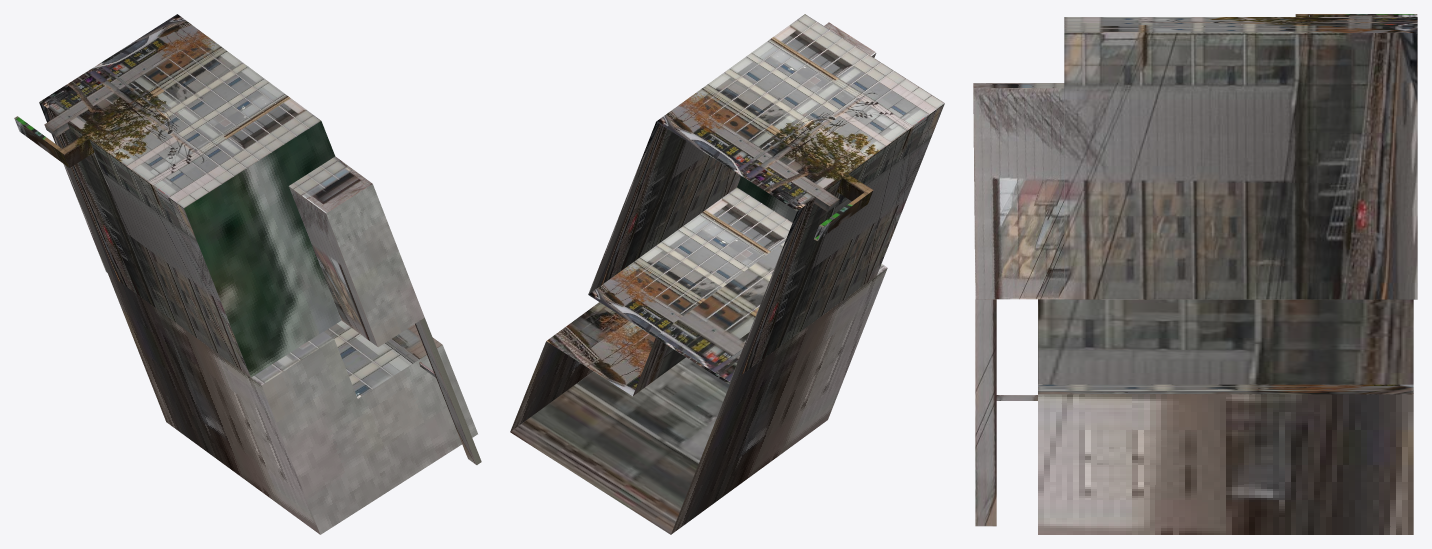
3 views of the same model, side by side, from view 1: azimuth 30°, elevation 25°; view 2: azimuth 150°, elevation 25°; view 3: azimuth 270°, elevation 25° (orthographic). The views are drawn at different scales.
Parts seen in each view (by area): view 1: IndexedFaceSet, IndexedFaceSet__12_0, IndexedFaceSet__4_0, IndexedFaceSet__3_0, IndexedFaceSet__15_0, IndexedFaceSet__9_0, IndexedFaceSet__18_0, IndexedFaceSet__8_0, IndexedFaceSet__6_0, IndexedFaceSet__16_0, IndexedFaceSet__22_0, IndexedFaceSet__21_0; view 2: IndexedFaceSet, IndexedFaceSet__14_0, IndexedFaceSet__15_0, IndexedFaceSet__3_0, IndexedFaceSet__1_0, IndexedFaceSet__5_0, IndexedFaceSet__16_0, IndexedFaceSet__18_0, IndexedFaceSet__19_0, IndexedFaceSet__17_0, IndexedFaceSet__4_0, IndexedFaceSet__26_0; view 3: IndexedFaceSet__5_0, IndexedFaceSet__19_0, IndexedFaceSet__17_0, IndexedFaceSet__10_0, IndexedFaceSet, IndexedFaceSet__20_0, IndexedFaceSet__18_0, IndexedFaceSet__6_0.
Boxes of the visible parts, x1,y1,x2,y2 form: IndexedFaceSet: (39, 14, 320, 207); IndexedFaceSet__12_0: (262, 339, 477, 534); IndexedFaceSet__4_0: (184, 121, 341, 377); IndexedFaceSet__3_0: (39, 102, 250, 377); IndexedFaceSet__15_0: (107, 273, 319, 534); IndexedFaceSet__9_0: (326, 184, 424, 346); IndexedFaceSet__18_0: (324, 320, 442, 398); IndexedFaceSet__8_0: (289, 186, 377, 346); IndexedFaceSet__6_0: (289, 156, 372, 213); IndexedFaceSet__16_0: (251, 331, 333, 385); IndexedFaceSet__22_0: (420, 318, 481, 464); IndexedFaceSet__21_0: (415, 321, 476, 464); IndexedFaceSet: (656, 14, 944, 211); IndexedFaceSet__14_0: (510, 357, 730, 534); IndexedFaceSet__15_0: (671, 268, 887, 534); IndexedFaceSet__3_0: (729, 103, 944, 383); IndexedFaceSet__1_0: (588, 187, 792, 383); IndexedFaceSet__5_0: (588, 121, 741, 294); IndexedFaceSet__16_0: (657, 242, 887, 381); IndexedFaceSet__18_0: (546, 302, 655, 396); IndexedFaceSet__19_0: (510, 341, 592, 431); IndexedFaceSet__17_0: (633, 338, 685, 395); IndexedFaceSet__4_0: (737, 176, 796, 222); IndexedFaceSet__26_0: (817, 190, 873, 240); IndexedFaceSet__5_0: (1064, 32, 1417, 299); IndexedFaceSet__19_0: (1038, 394, 1413, 534); IndexedFaceSet__17_0: (1038, 299, 1413, 384); IndexedFaceSet__10_0: (973, 88, 1064, 299); IndexedFaceSet: (1064, 17, 1417, 32); IndexedFaceSet__20_0: (975, 299, 996, 526); IndexedFaceSet__18_0: (1038, 384, 1413, 394); IndexedFaceSet__6_0: (973, 83, 1064, 88).
Bounding box in the file's own units: 27.97 × 35 × 28.67.
25 materials, 25 textured.
